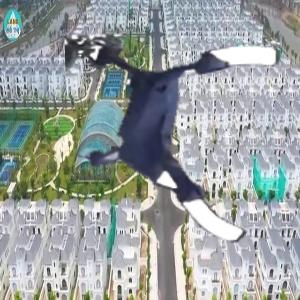drone: (69, 31, 287, 249)
